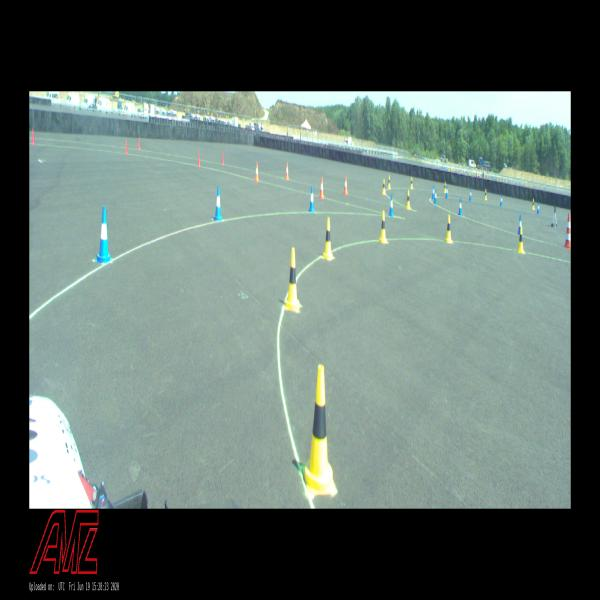blue_cone: (94, 207, 112, 263), (213, 186, 222, 220), (308, 186, 314, 212), (388, 195, 393, 216), (518, 215, 522, 234), (458, 198, 462, 215), (434, 189, 437, 204), (432, 186, 435, 199), (445, 186, 448, 198), (500, 194, 503, 205), (537, 202, 540, 213), (469, 190, 472, 200)
large_orange_cone: (564, 214, 570, 248)
orange_cone: (319, 178, 324, 199), (255, 163, 259, 182), (285, 163, 289, 179), (344, 176, 347, 194)
yellow_cone: (303, 364, 337, 494), (285, 248, 300, 312), (322, 218, 334, 259), (379, 210, 387, 242), (445, 215, 452, 242), (517, 228, 524, 253), (406, 190, 411, 208), (382, 178, 386, 194), (484, 189, 487, 200), (410, 178, 413, 188), (532, 199, 535, 209), (388, 176, 390, 189), (444, 182, 446, 192)
